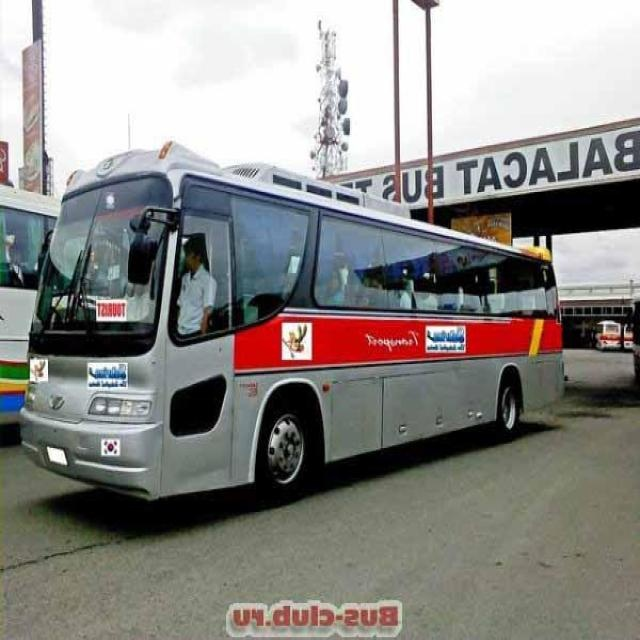Bus: (14, 138, 569, 509)
